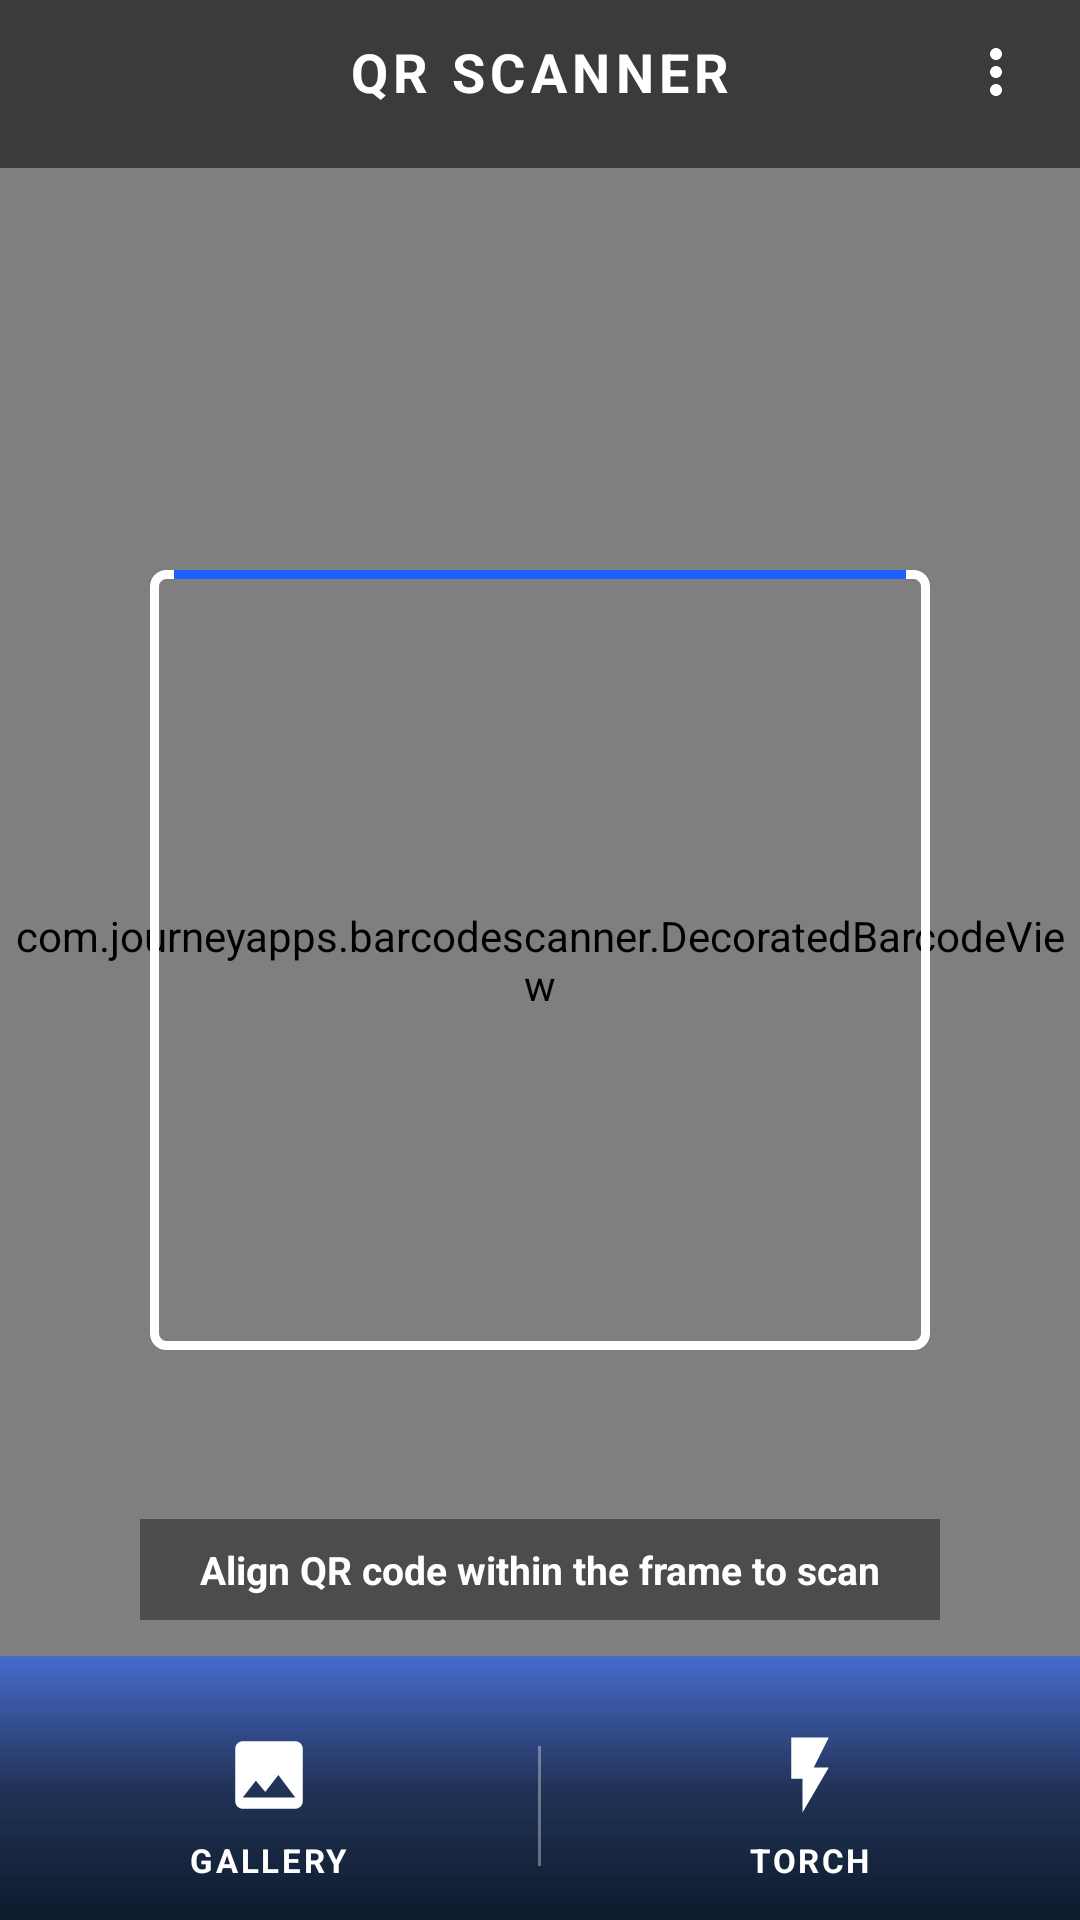

Icons on this 1080w x 1920h Android screen, each with its box as (x1, y1, x2, y2):
More options: (990, 48, 1002, 96)
